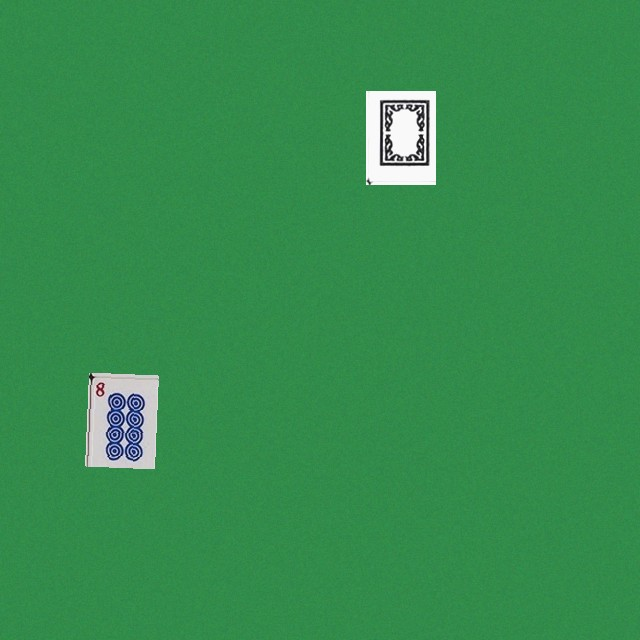tile: (365, 90, 435, 184), (85, 372, 155, 466)
